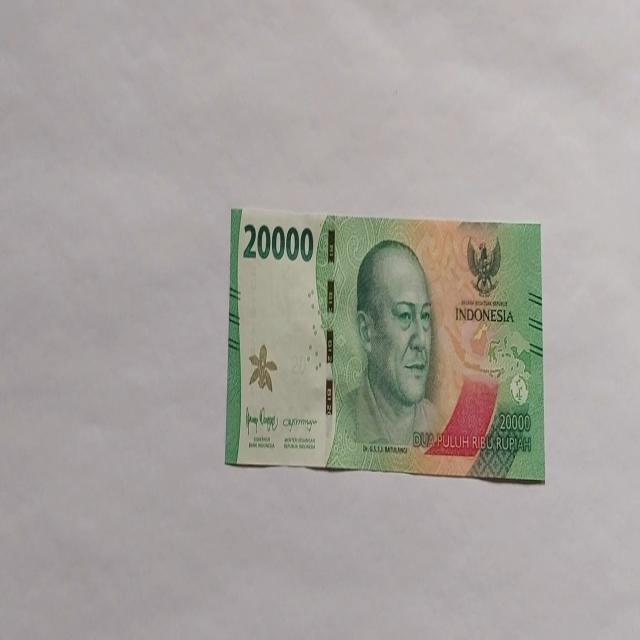dua puluh ribu rupiah: (225, 205, 544, 482)
